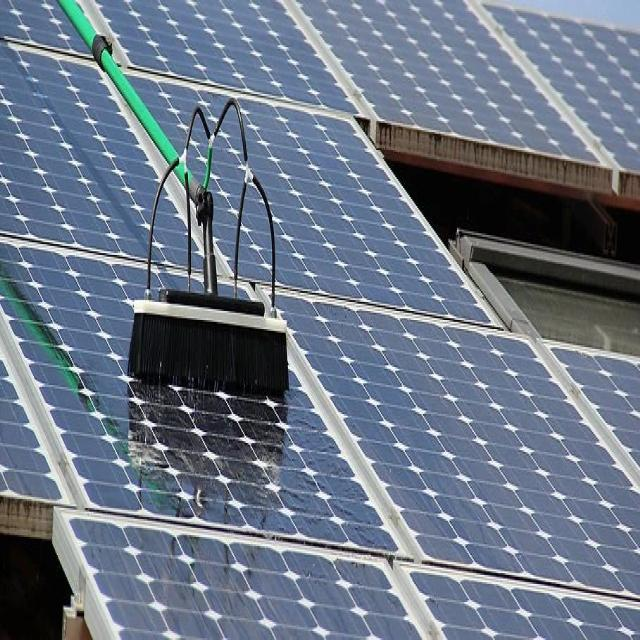clean-solar-panel: (0, 0, 640, 637)
